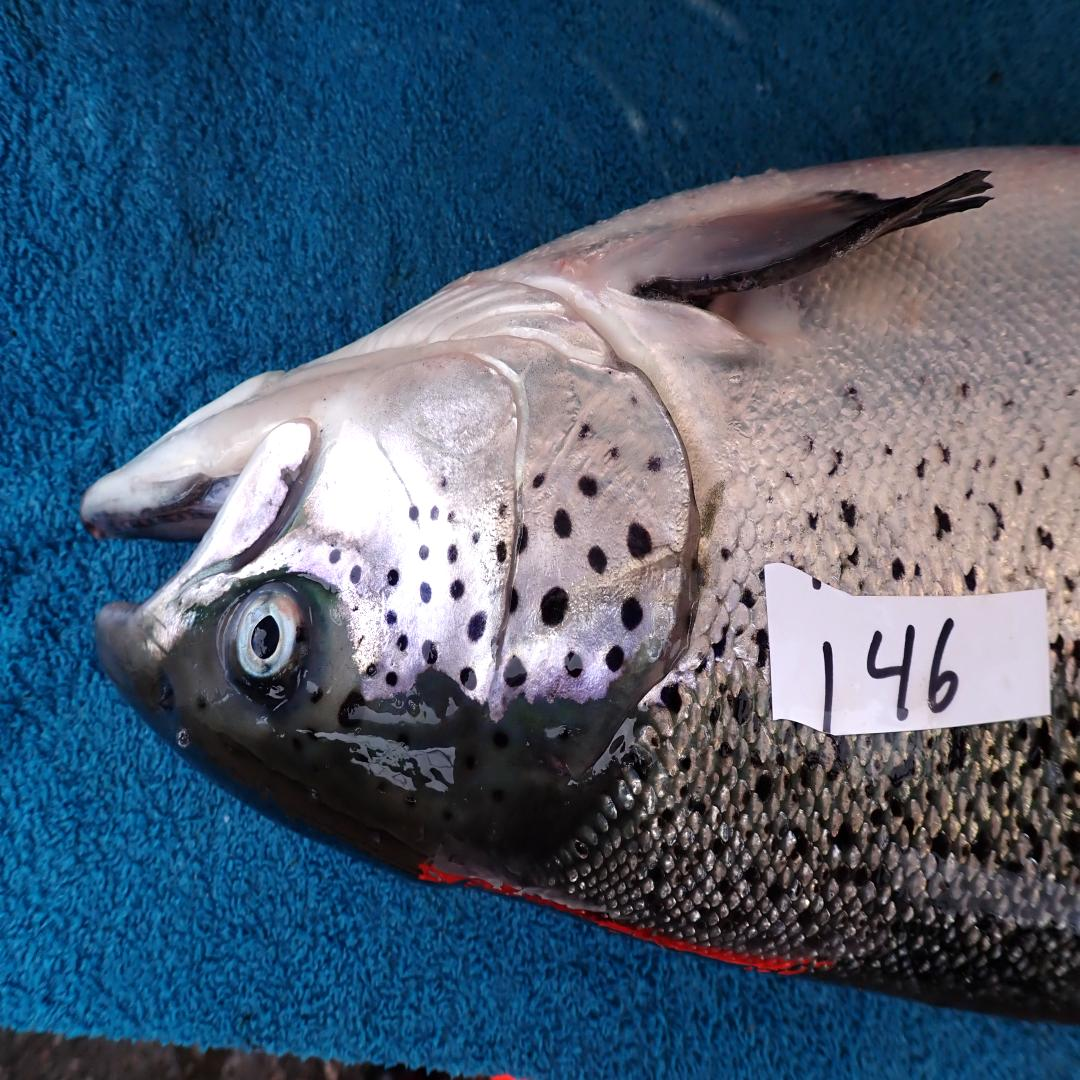roi: (316, 273, 696, 716)
